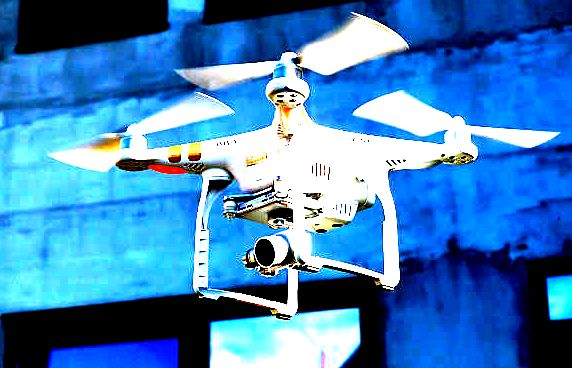Drone: (44, 8, 561, 326)
